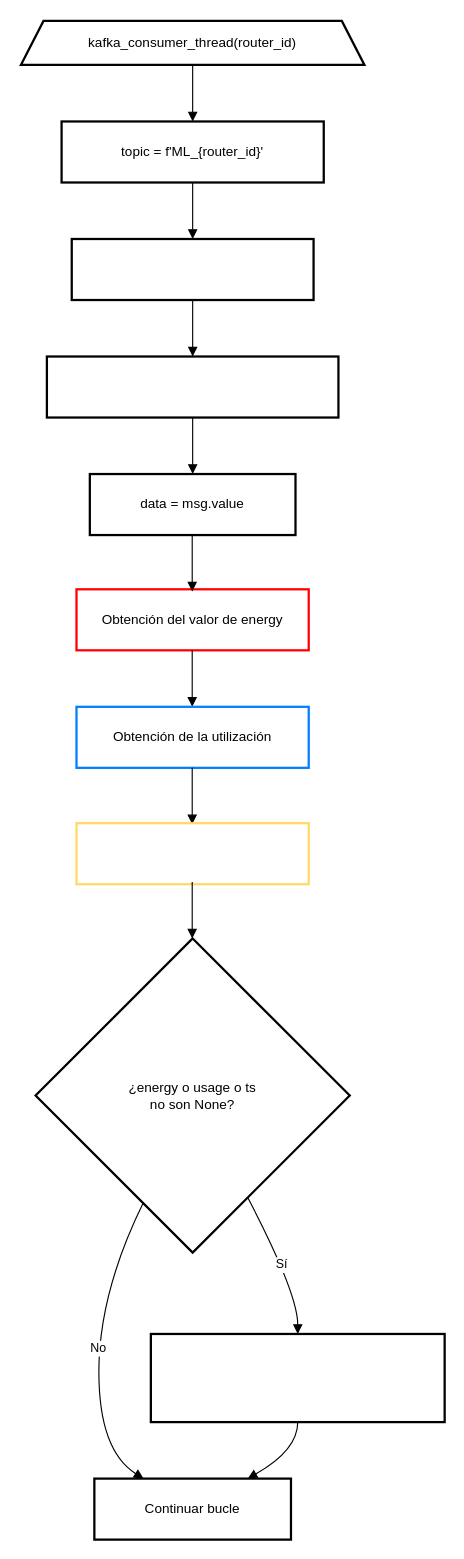
Image size: 464x1559. Some labels were removed from this diagram. The box of each missing label's shape, as (x1, y1, x2, y2) in pixels:
Actualizar router_state[router_id]: (149, 1332, 445, 1423)
Crear KafkaConsumer: (70, 237, 314, 301)
Obtención del ts: (75, 822, 309, 885)
Para cada mensaje recibido: (45, 355, 339, 418)
